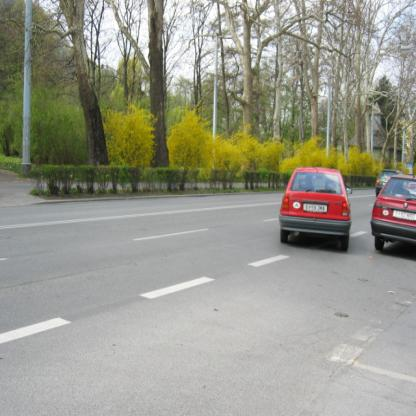car: (280, 168, 355, 251), (371, 175, 416, 260), (376, 171, 405, 198)
